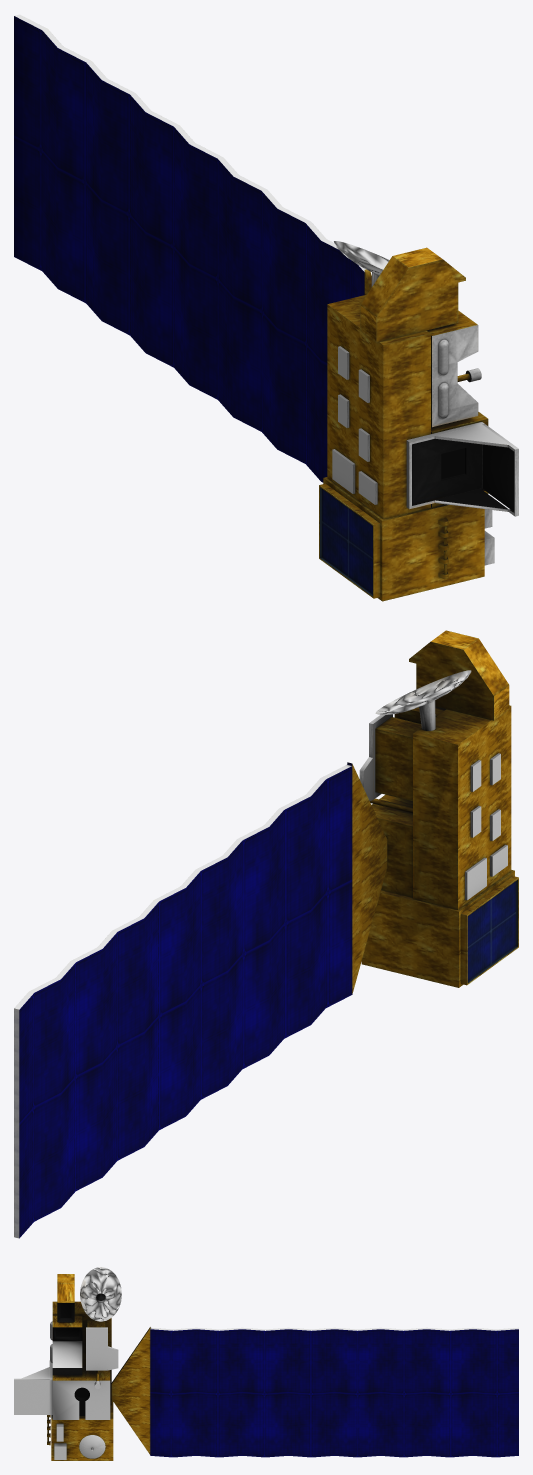
File: Aura (A).glb
3 views of the same model, one above another, from view 1: azimuth 30°, elevation 25°; view 2: azimuth 150°, elevation 25°; view 3: azimuth 270°, elevation 25° (orthographic). The views are drawn at different scales.
Parts seen in each view (by area): view 1: aura_uv.la; view 2: aura_uv.la; view 3: aura_uv.la.
Boxes of the visible parts, <box> form: aura_uv.la: <box>14,14,518,601</box>; aura_uv.la: <box>14,630,518,1238</box>; aura_uv.la: <box>14,1267,518,1460</box>.
Size of the model in its own units: 8.98 by 18.99 by 50.82.
9 materials, 9 textured.
